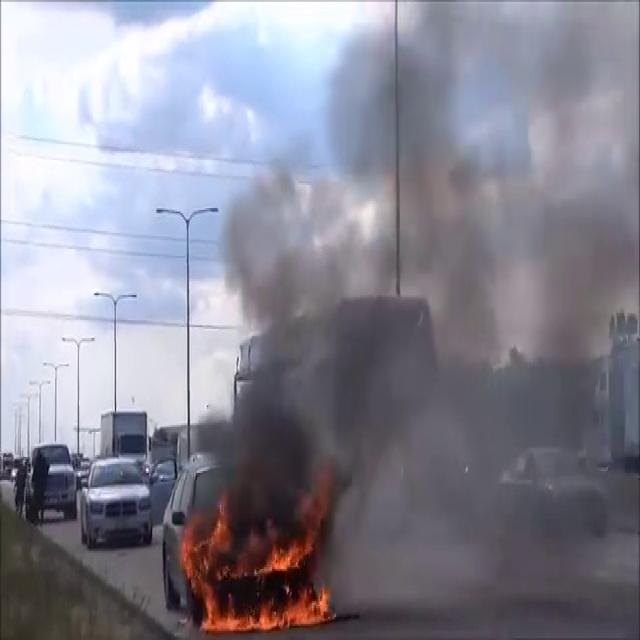Fire: (176, 502, 334, 636)
Smoke: (208, 1, 640, 602)
